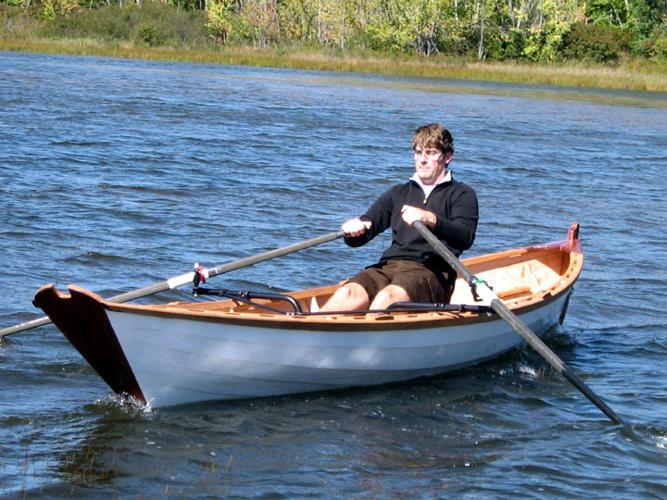person: (319, 126, 482, 317)
